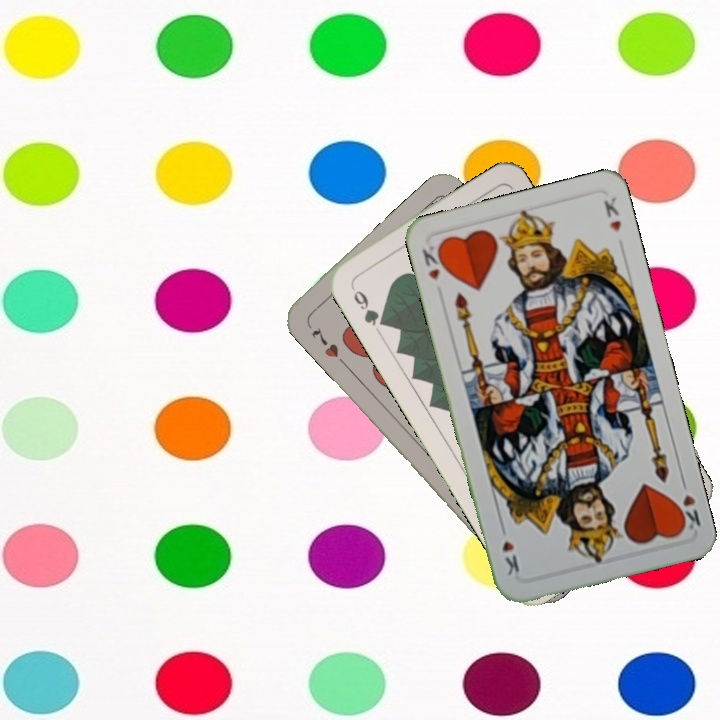G9: (346, 280, 390, 329)
H7: (307, 323, 342, 361)
HK: (671, 474, 704, 535), (418, 238, 449, 283)
